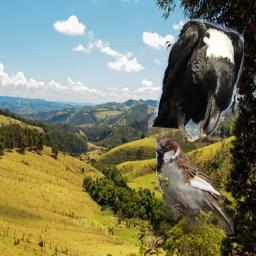Crow: (148, 16, 244, 146)
Sparrow: (156, 137, 234, 234)
